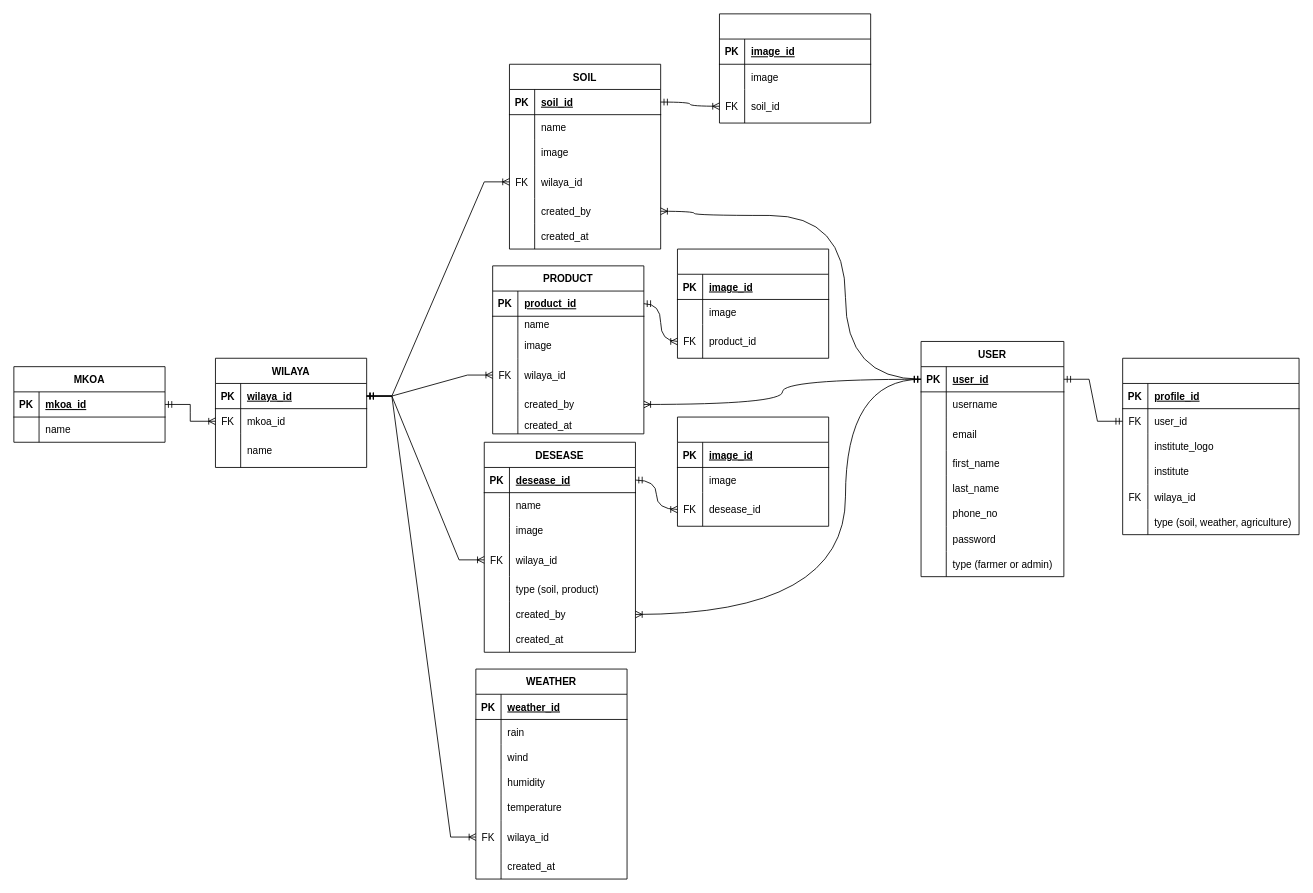
Some shapes in this 1313 by 893 pixel diagram are drawn without their labels. Each missing label, with the box of its shape:
ADMIN_PROFILE: (1122, 357, 1299, 535)
DESEASE_IMAGE: (677, 416, 829, 526)
PRODUCT_IMAGE: (677, 248, 829, 358)
SOIL_IMAGE: (719, 13, 871, 123)
